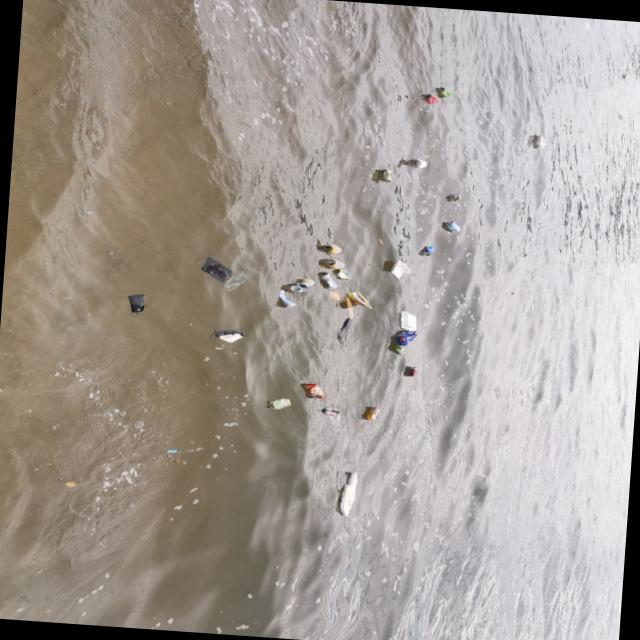can: (275, 289, 296, 308), (318, 272, 338, 288), (324, 258, 344, 270), (335, 268, 352, 280), (288, 282, 306, 293), (320, 406, 339, 416), (324, 243, 341, 254), (435, 86, 450, 98), (379, 168, 391, 182), (410, 158, 426, 168), (422, 94, 438, 104), (420, 246, 434, 256), (409, 366, 416, 376)
foam: (338, 472, 357, 516), (387, 259, 410, 280), (397, 310, 416, 332), (534, 134, 545, 149)
plastic bottle: (345, 290, 372, 308)
unknow: (191, 255, 231, 283), (216, 269, 247, 292), (208, 326, 244, 344), (125, 293, 146, 317), (338, 292, 354, 318), (394, 330, 417, 346), (266, 396, 290, 411), (302, 382, 323, 398), (336, 318, 352, 337), (322, 290, 343, 301), (364, 406, 378, 421), (446, 221, 460, 232), (446, 192, 461, 202), (298, 278, 314, 287), (393, 344, 405, 355)
